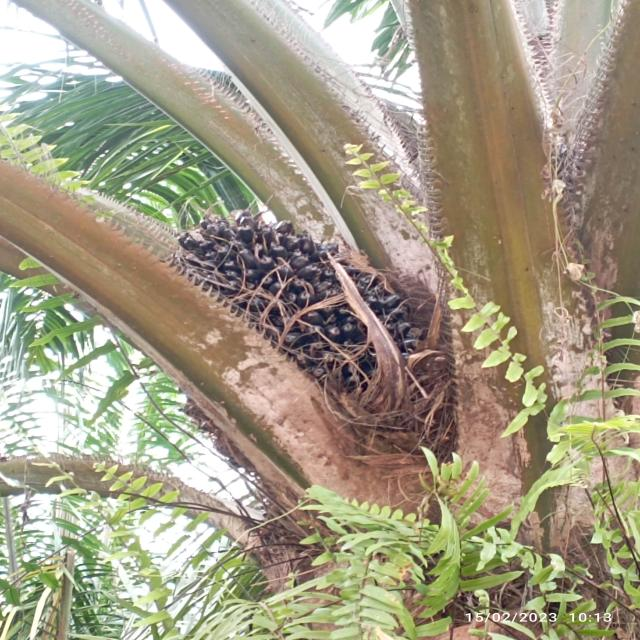fraksi 00: (94, 182, 425, 438)
